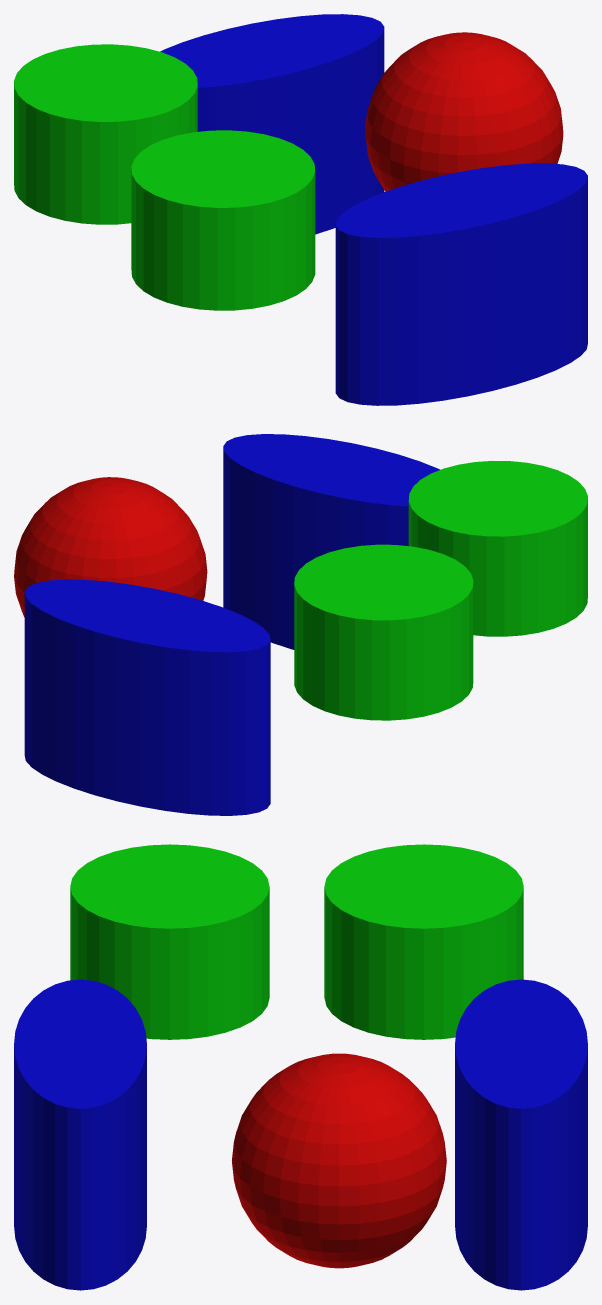
The model's file is minicargador_boton1_derecho.obj.
3 renders of one model, top to bottom at view 1: azimuth 30°, elevation 25°; view 2: azimuth 150°, elevation 25°; view 3: azimuth 270°, elevation 25°, orthographic. The views are drawn at different scales.
Parts seen in each view (by area): view 1: Cilindro.010, Cilindro.011, Cilindro.009, Cilindro.013, Esfera.001; view 2: Cilindro.009, Cilindro.013, Cilindro.010, Cilindro.011, Esfera.001; view 3: Cilindro.009, Cilindro.010, Esfera.001, Cilindro.013, Cilindro.011.
Part boxes in pixels (bbox=[...]): Cilindro.010: bbox=[335, 163, 587, 405]; Cilindro.011: bbox=[131, 130, 315, 310]; Cilindro.009: bbox=[160, 14, 384, 234]; Cilindro.013: bbox=[14, 44, 197, 224]; Esfera.001: bbox=[365, 32, 563, 191]; Cilindro.009: bbox=[24, 579, 270, 815]; Cilindro.013: bbox=[294, 544, 473, 720]; Cilindro.010: bbox=[223, 434, 440, 649]; Cilindro.011: bbox=[408, 460, 587, 636]; Esfera.001: bbox=[14, 477, 207, 617]; Cilindro.009: bbox=[455, 979, 587, 1290]; Cilindro.010: bbox=[14, 979, 146, 1290]; Esfera.001: bbox=[232, 1053, 446, 1268]; Cilindro.013: bbox=[324, 844, 523, 1039]; Cilindro.011: bbox=[70, 844, 269, 1039].
Size of the model in its own units: 0.8794 by 0.3763 by 0.8327.
